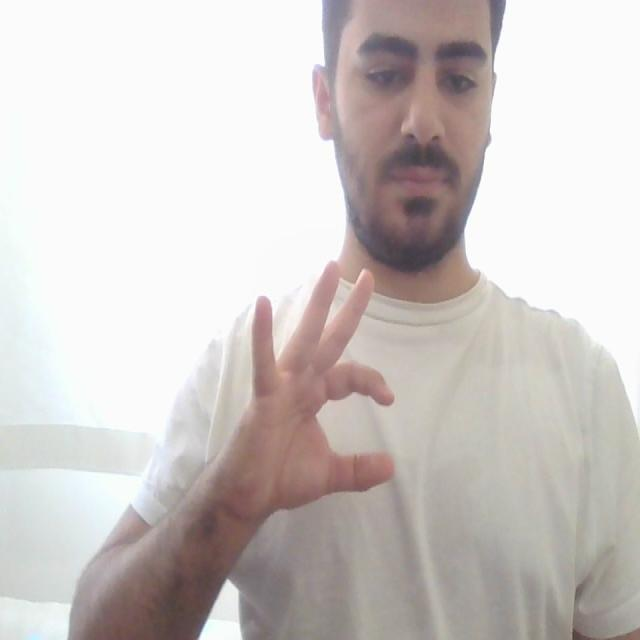Tuvalet: (204, 238, 436, 538)
